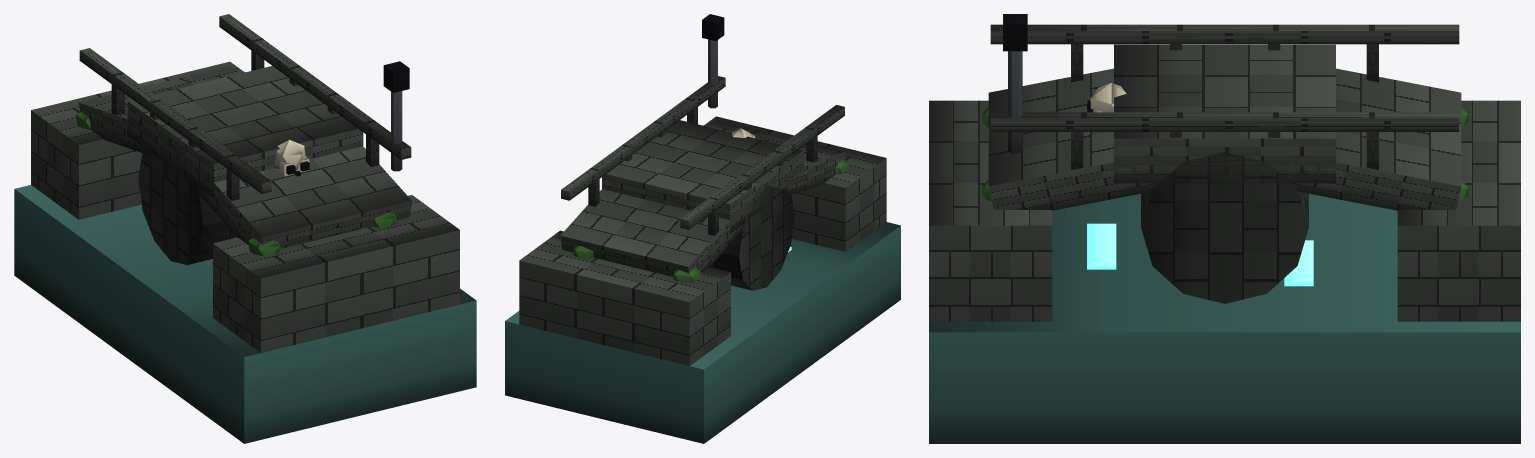
Rendered from canal_bridge.glb.
3 views of the same model, side by side, from view 1: azimuth 30°, elevation 25°; view 2: azimuth 150°, elevation 25°; view 3: azimuth 270°, elevation 25° (orthographic). The views are drawn at different scales.
Parts seen in each view (by area): view 1: canal_bridge; view 2: canal_bridge; view 3: canal_bridge.
Boxes of the visible parts, x1,y1,x2,y2 form: canal_bridge: (14,14,476,443); canal_bridge: (505,14,900,443); canal_bridge: (929,14,1520,443).
Bounding box in the file's own units: 1.4 × 1.77 × 2.4.
1 material, 1 textured.
